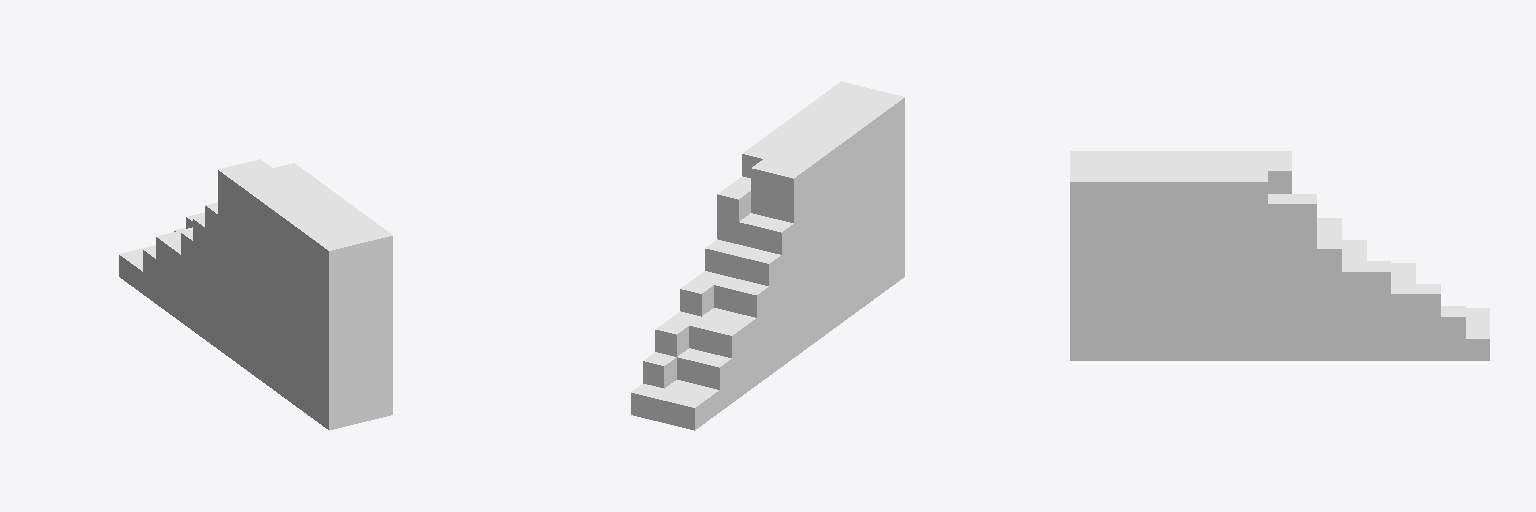
File: muro1.obj
3 views of the same model, side by side, from view 1: azimuth 30°, elevation 25°; view 2: azimuth 150°, elevation 25°; view 3: azimuth 270°, elevation 25° (orthographic).
Parts seen in each view (by area): view 1: object 1; view 2: object 1; view 3: object 1.
Part boxes in pixels (left/top/right/bottom): object 1: left=119, top=159, right=392, bottom=430; object 1: left=631, top=81, right=904, bottom=430; object 1: left=1070, top=151, right=1489, bottom=360.
Bounding box in the file's own units: 0.3 × 0.8 × 1.7.